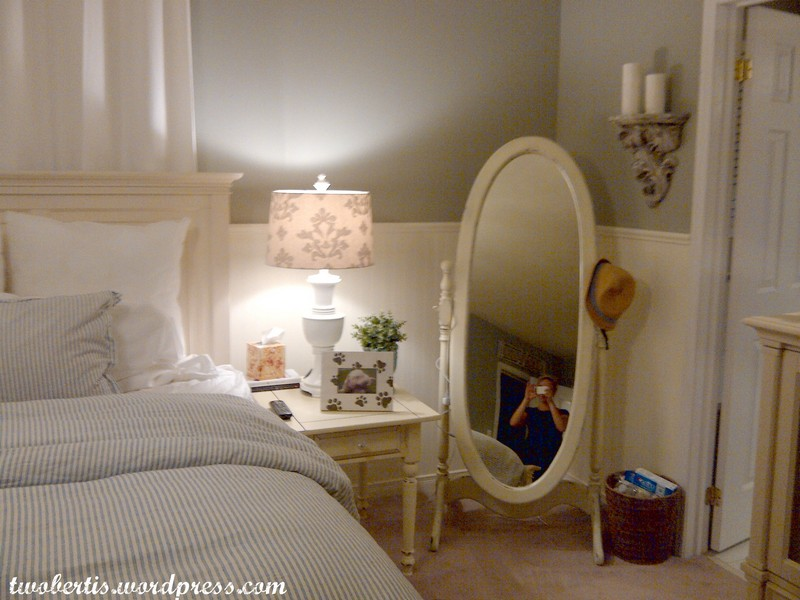bed: (3, 166, 417, 600)
lamp: (257, 167, 379, 402)
stool: (249, 364, 450, 592)
